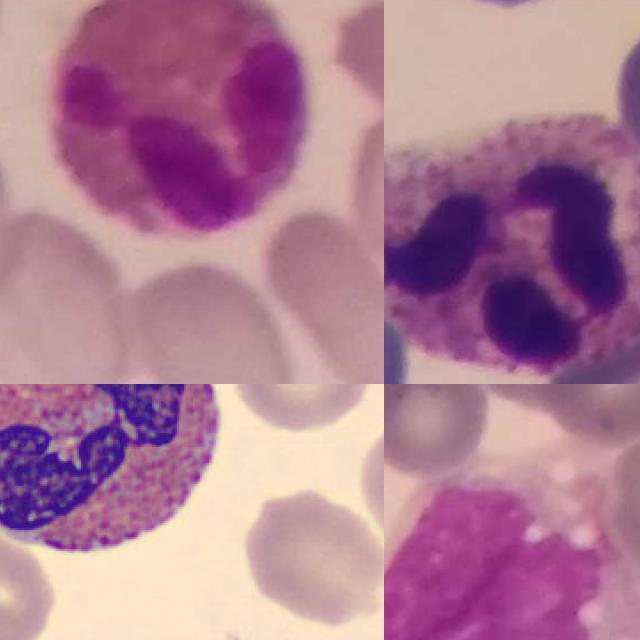Eosinophil: (48, 0, 311, 246), (0, 384, 237, 570)
Monocyte: (384, 451, 640, 640)
Neutrophil: (384, 114, 640, 373)
RBC: (235, 484, 384, 628), (0, 517, 61, 640), (228, 384, 374, 434), (354, 404, 384, 575)
